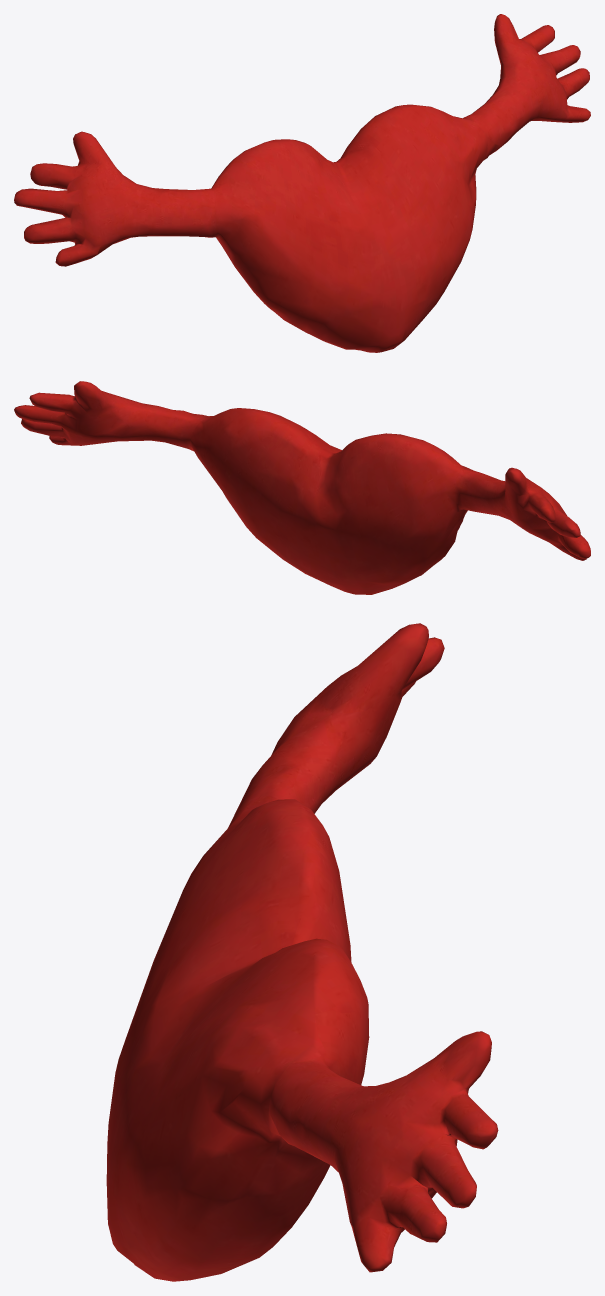
Rendered from FAMNIG HJÄRTA Coussin rouge 40x101 cm.glb.
The picture shows the model from 3 angles, top to bottom: view 1: azimuth 30°, elevation 25°; view 2: azimuth 150°, elevation 25°; view 3: azimuth 270°, elevation 25°; orthographic projection. The views are drawn at different scales.
Parts seen in each view (by area): view 1: ProcessedMeshNode; view 2: ProcessedMeshNode; view 3: ProcessedMeshNode.
Part boxes in pixels (x1=…): ProcessedMeshNode: x1=14, y1=14, x2=590, y2=352; ProcessedMeshNode: x1=14, y1=381, x2=590, y2=594; ProcessedMeshNode: x1=106, y1=623, x2=498, y2=1281.
Bounding box in the file's own units: 0.8893 × 0.3272 × 0.2728.
1 material, 1 textured.
